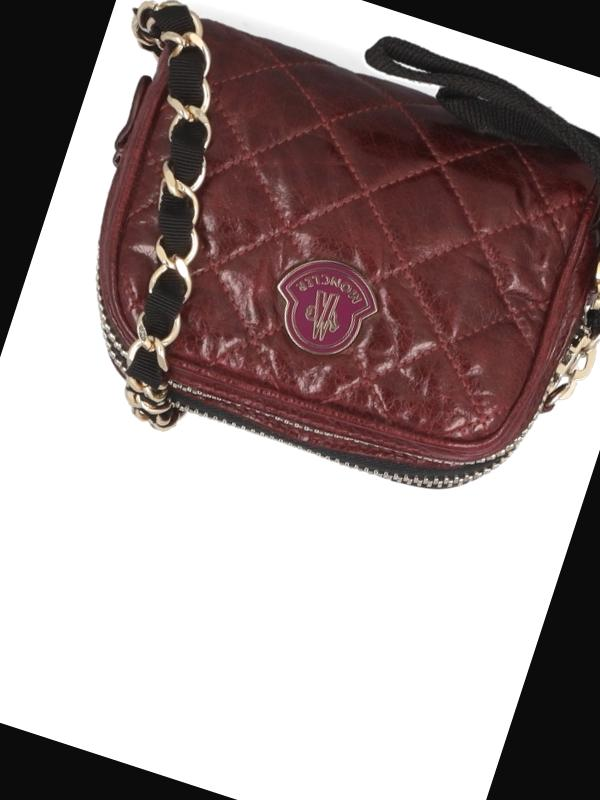MONCLER: (258, 244, 386, 369)
